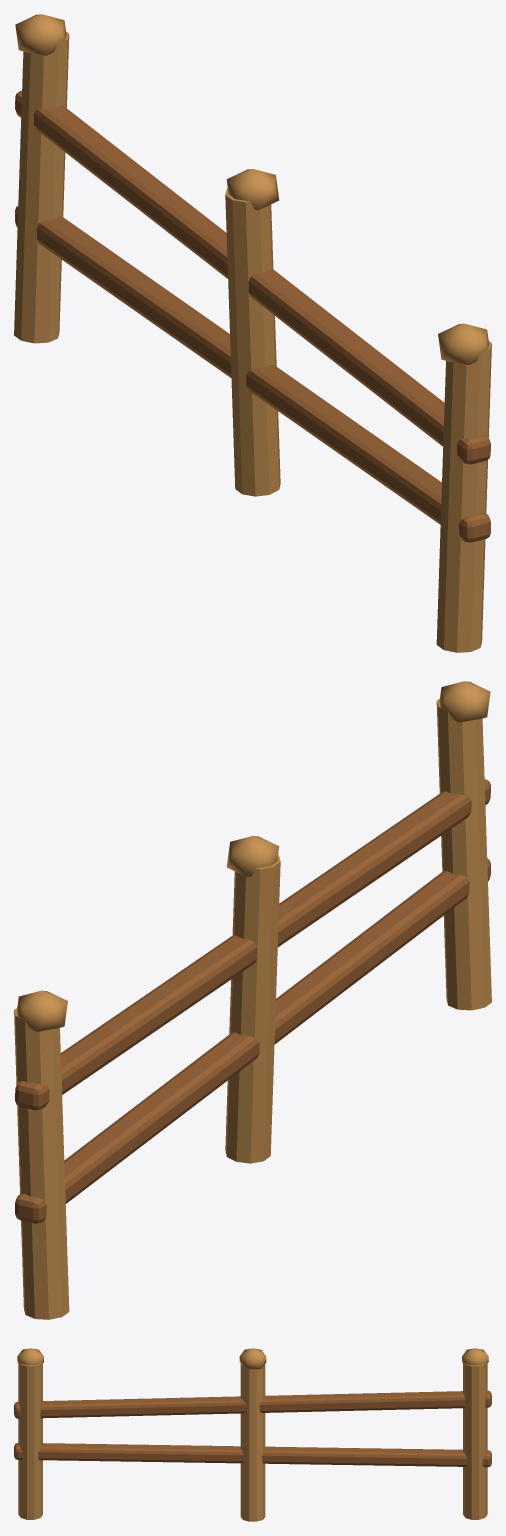
File: LakesideFenceModule.fbx
3 views of the same model, one above another, from view 1: azimuth 30°, elevation 25°; view 2: azimuth 150°, elevation 25°; view 3: azimuth 270°, elevation 25° (orthographic). The views are drawn at different scales.
Visible parts, largest first — view 1: LakesideFenceModule; view 2: LakesideFenceModule; view 3: LakesideFenceModule.
Boxes of the visible parts, bbox=[...] form: LakesideFenceModule: bbox=[14, 14, 491, 652]; LakesideFenceModule: bbox=[14, 681, 491, 1319]; LakesideFenceModule: bbox=[14, 1348, 491, 1521].
Bounding box in the file's own units: 0.2632 × 1.67 × 4.3.
